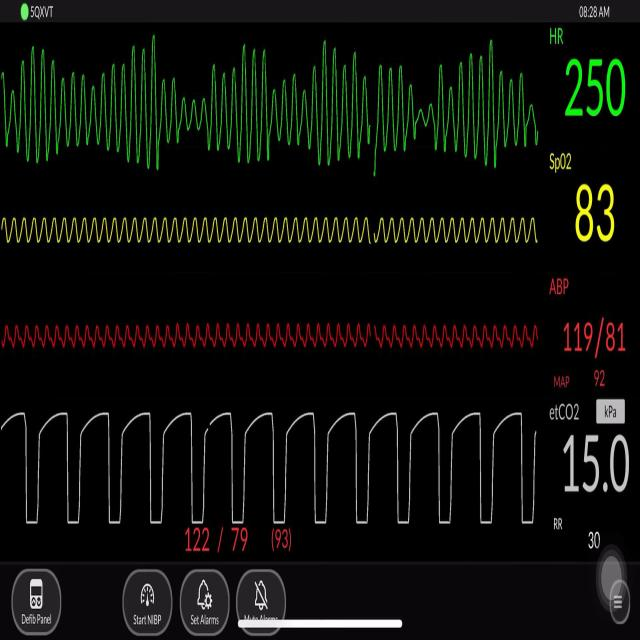danger: (5, 34, 538, 178)
